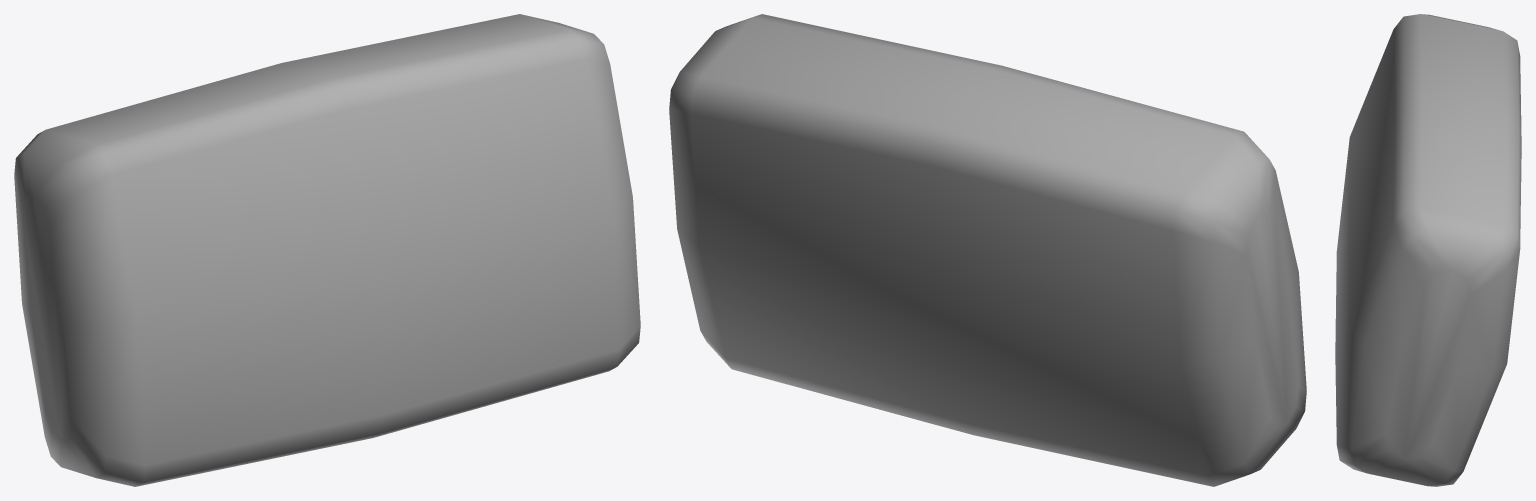
Rendered from Pillow1.fbx.
3 renders of one model, left to right at view 1: azimuth 30°, elevation 25°; view 2: azimuth 150°, elevation 25°; view 3: azimuth 270°, elevation 25°, orthographic. The views are drawn at different scales.
Visible parts, largest first — view 1: Prop_GenericPillow_02; view 2: Prop_GenericPillow_02; view 3: Prop_GenericPillow_02.
Boxes of the visible parts, x1,y1,x2,y2 form: Prop_GenericPillow_02: (14,14,640,486); Prop_GenericPillow_02: (669,14,1306,486); Prop_GenericPillow_02: (1335,14,1521,486).
Bounding box in the file's own units: 63.55 × 37.94 × 21.88.
Materials: 1 (1 with a texture image).
